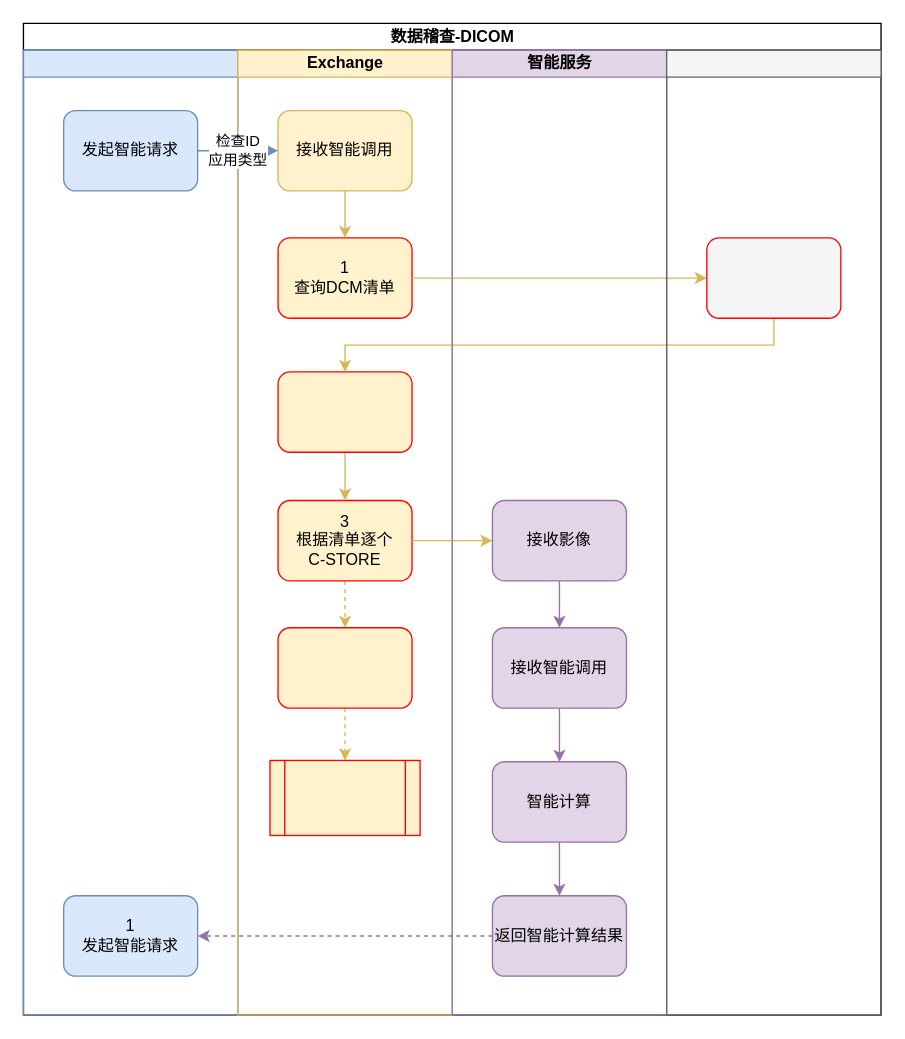
Some shapes in this 905 by 1039 pixel diagram are drawn without their labels. Each missing label, with the box of its shape:
1.1 Metadata服务: (706, 237, 841, 318)
2 保存DCM清单: (277, 371, 412, 452)
4 记录C-STORE结果: (277, 626, 412, 708)
5 比对DCM清单与C-STORE结果: (269, 759, 420, 835)
Cetus: (665, 49, 881, 1015)
Viewer: (22, 49, 238, 1015)
